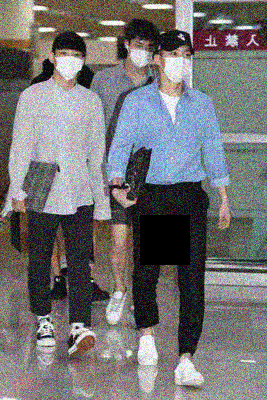with_mask: (161, 45, 192, 83), (54, 49, 83, 80), (127, 39, 155, 68)
